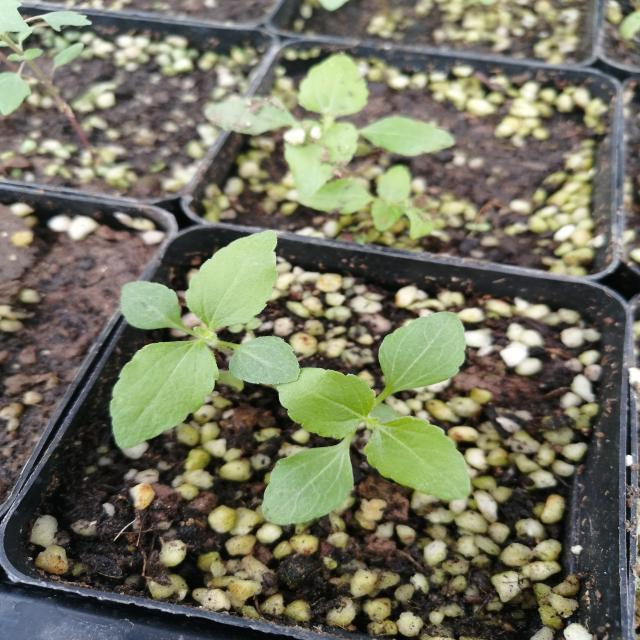billygoat_weed: (107, 212, 315, 471), (285, 299, 484, 532)
